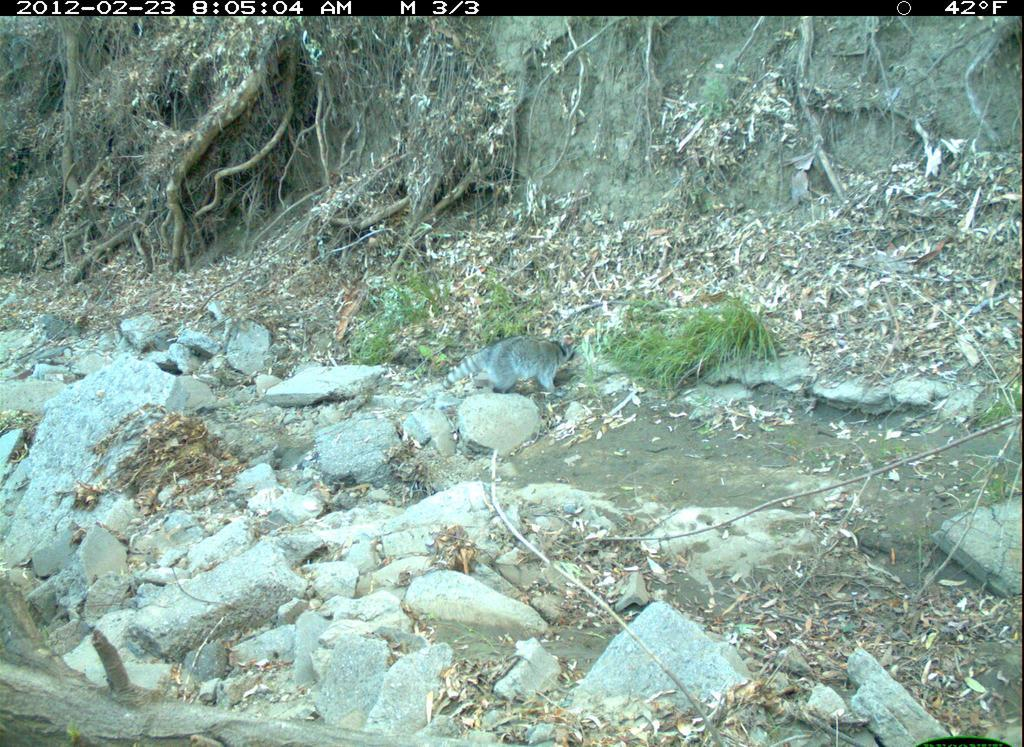raccoon: (428, 318, 602, 425)
